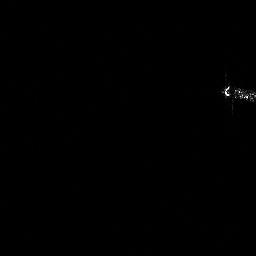ship: (225, 84, 256, 103)
